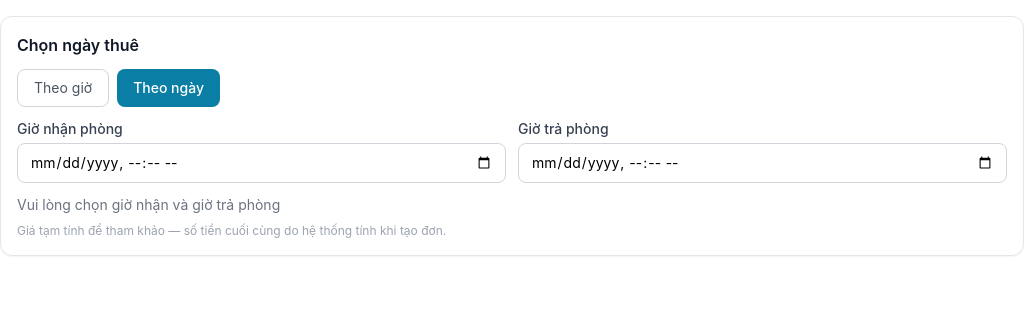
Test: RoomDateFrame - chon ngay va tam tinh › Vuot3Gio_HienGiaThemTungGio
Click the button "Theo giờ" at (63, 88), box [17,69,109,107]
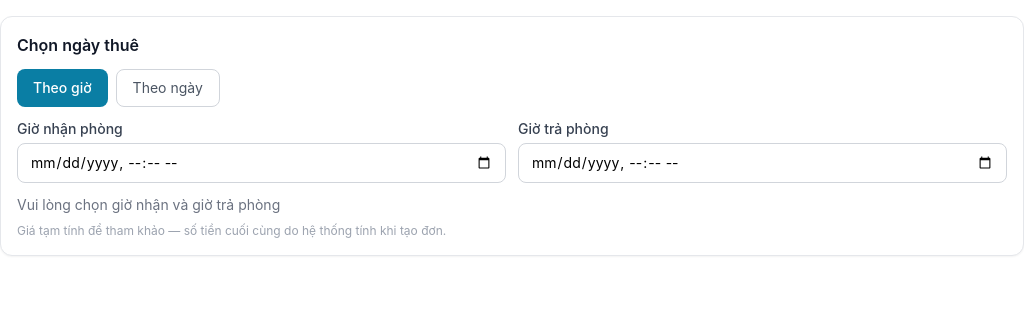
Type "2026-10-05T14:00" into the field labelled "Giờ nhận phòng" at (262, 163), box [17,143,506,183]
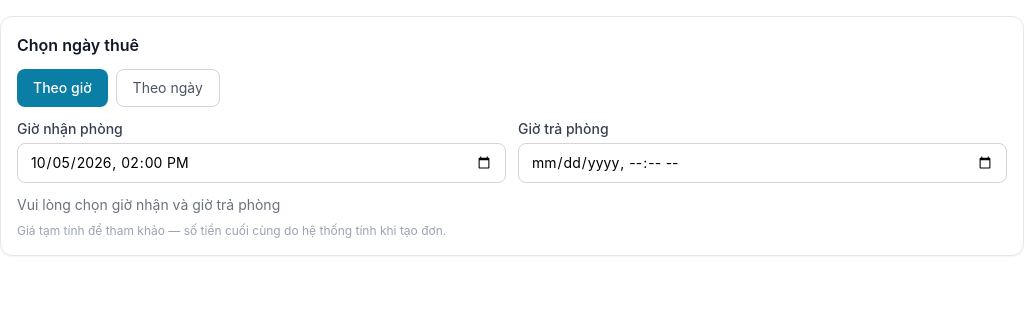
Type "2026-10-05T19:00" into the field labelled "Giờ trả phòng" at (762, 163), box [518,143,1007,183]
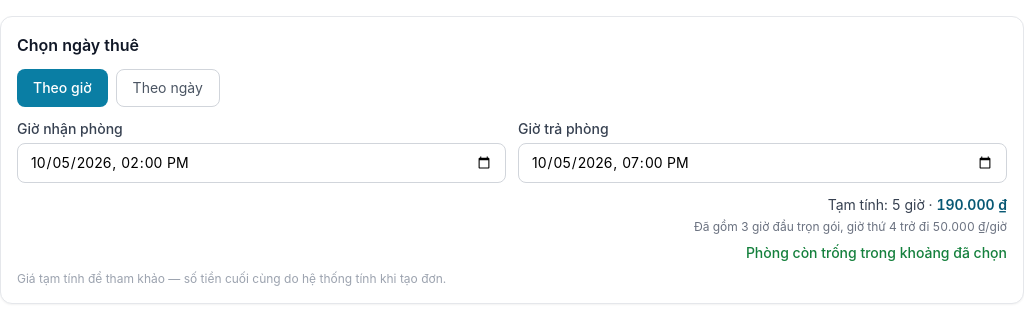
expect the text "Tạm tính: 5 giờ · 190.000 ₫" is shown: met, box [828,196,1007,213]
expect the text "190.000 ₫" is shown: met, box [936,196,1007,213]
expect the text "Đã gồm 3 giờ đầu trọn gói, giờ thứ 4 trở đi 50.000 ₫/giờ" is shown: met, box [694,219,1007,234]
